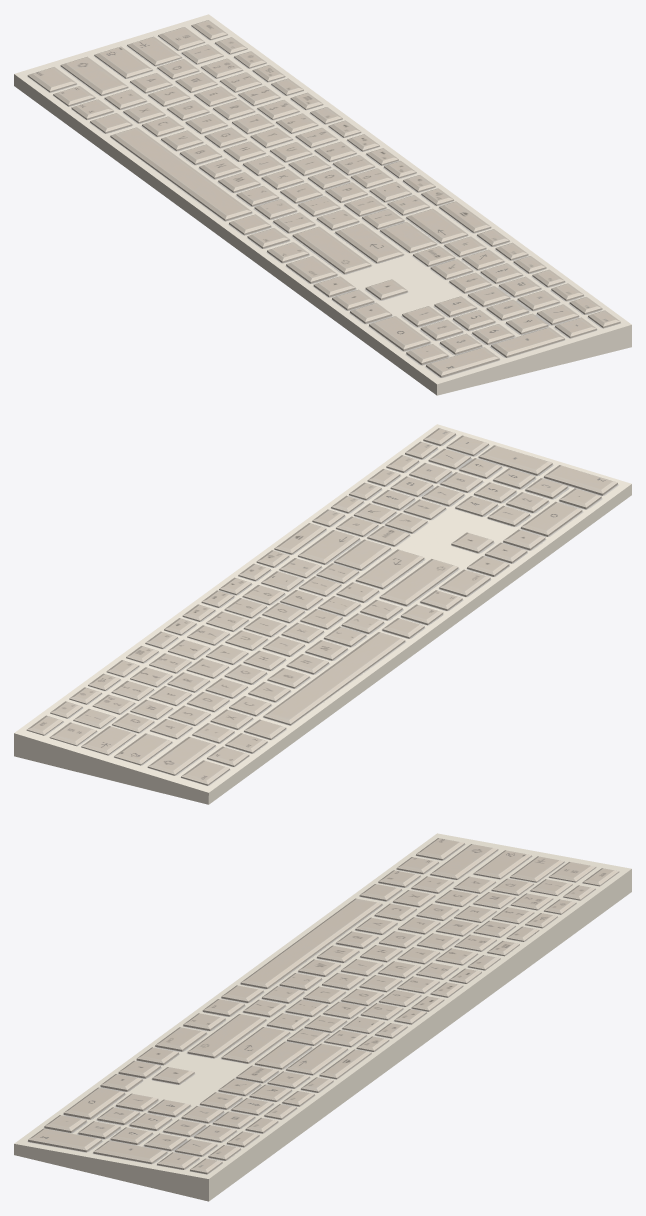
The model's file is SM_Keyboard_A1.fbx.
3 views of the same model, one above another, from view 1: azimuth 30°, elevation 25°; view 2: azimuth 150°, elevation 25°; view 3: azimuth 330°, elevation 25° (orthographic).
Visible parts, largest first — view 1: SM_Keyboard_A1; view 2: SM_Keyboard_A1; view 3: SM_Keyboard_A1.
Part boxes in pixels (x1,y1,x2,y2): SM_Keyboard_A1: (14,14,631,395); SM_Keyboard_A1: (14,424,631,804); SM_Keyboard_A1: (14,833,631,1201).
Bounding box in the file's own units: 14.05 × 52.86 × 1.79.
Materials: 1 (1 with a texture image).
